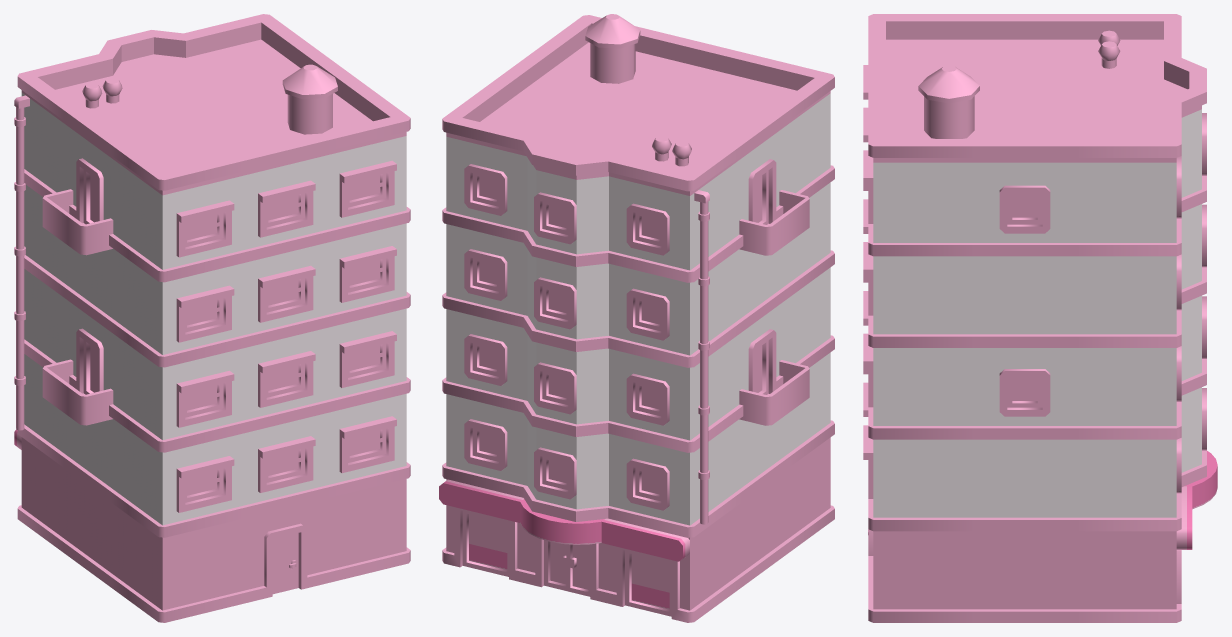
Rendered from building_l.obj.
3 views of the same model, side by side, from view 1: azimuth 30°, elevation 25°; view 2: azimuth 150°, elevation 25°; view 3: azimuth 270°, elevation 25° (orthographic). The views are drawn at different scales.
Parts seen in each view (by area): view 1: building-l; view 2: building-l; view 3: building-l.
Boxes of the visible parts, x1,y1,x2,y2 form: building-l: [14, 14, 410, 622]; building-l: [439, 14, 834, 622]; building-l: [863, 14, 1217, 622].
Size of the model in its own units: 27.4 by 45.4 by 28.04.
Materials: 1 (1 with a texture image).
